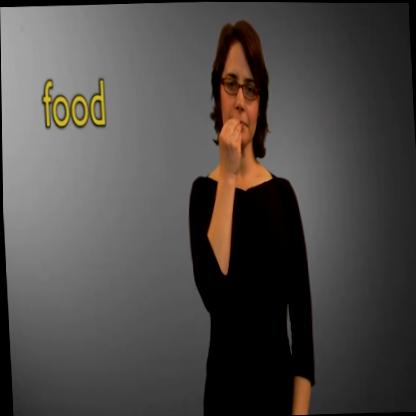Food: (199, 15, 286, 251)
